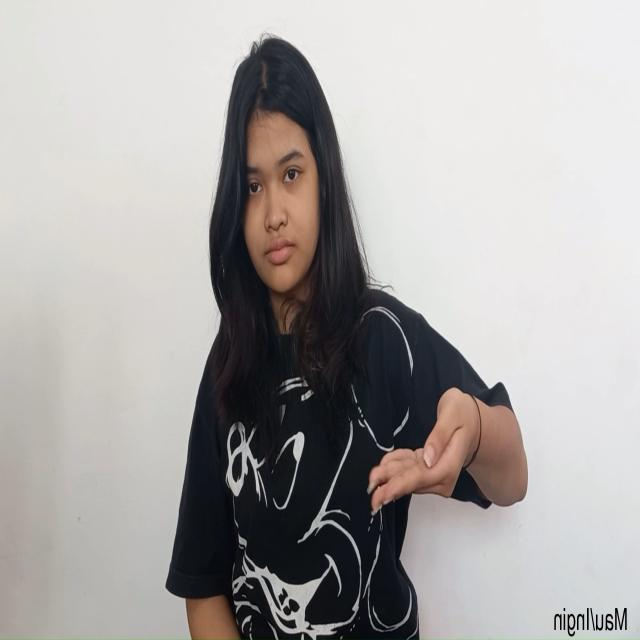Mau-Ingin -BISINDO-: (364, 385, 484, 517)
